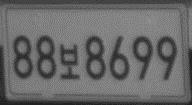6: (108, 35, 130, 81)
8: (84, 34, 107, 81), (12, 34, 33, 79), (36, 34, 56, 80)
9: (131, 35, 154, 81), (156, 35, 177, 82)
보: (59, 43, 80, 80)
